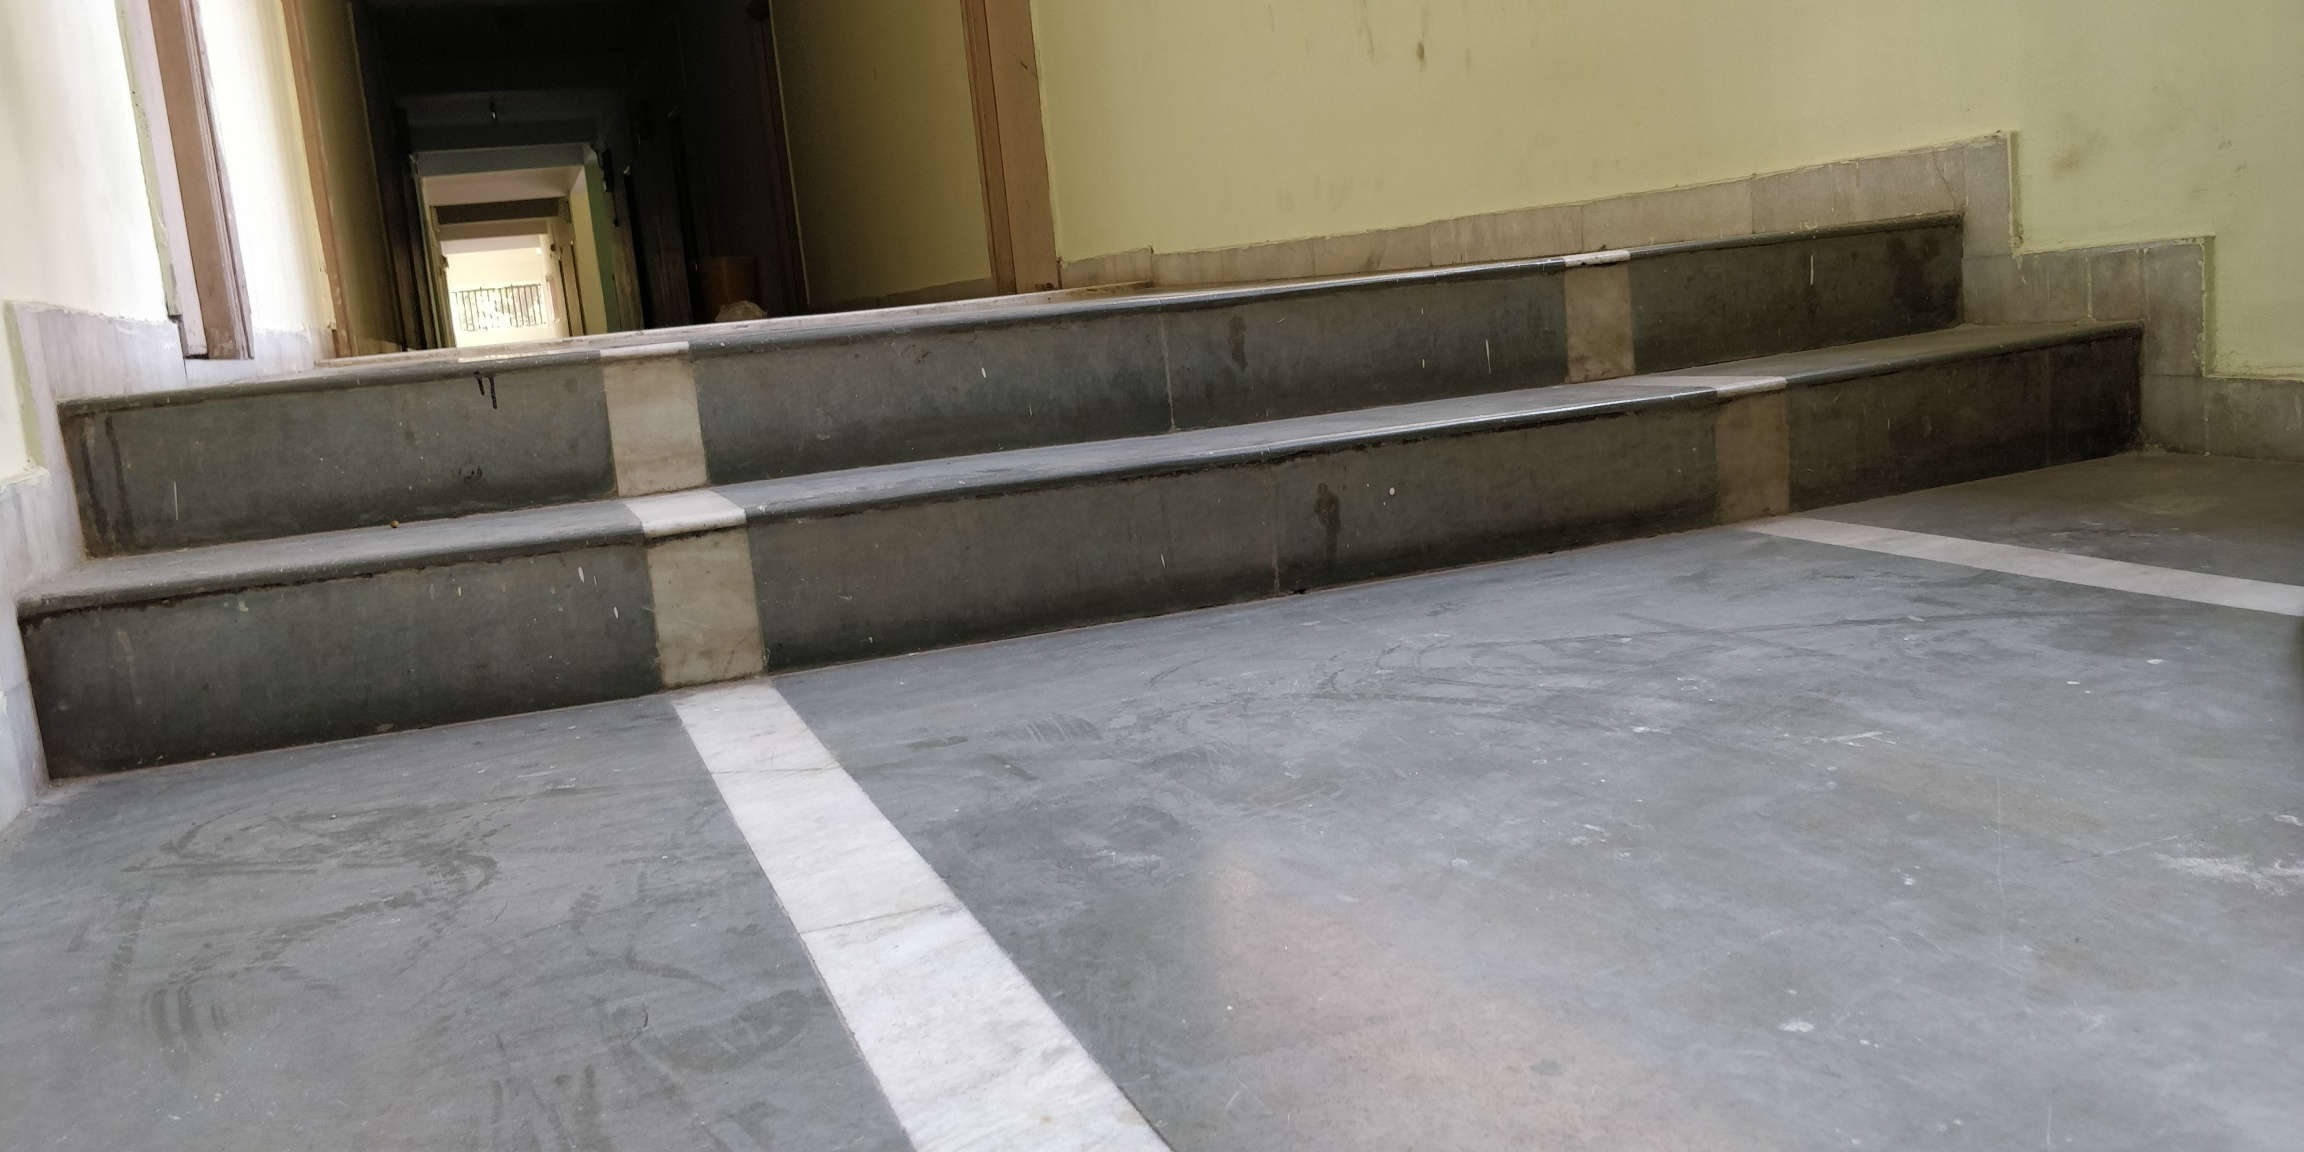stairs_up: (18, 216, 1948, 691)
